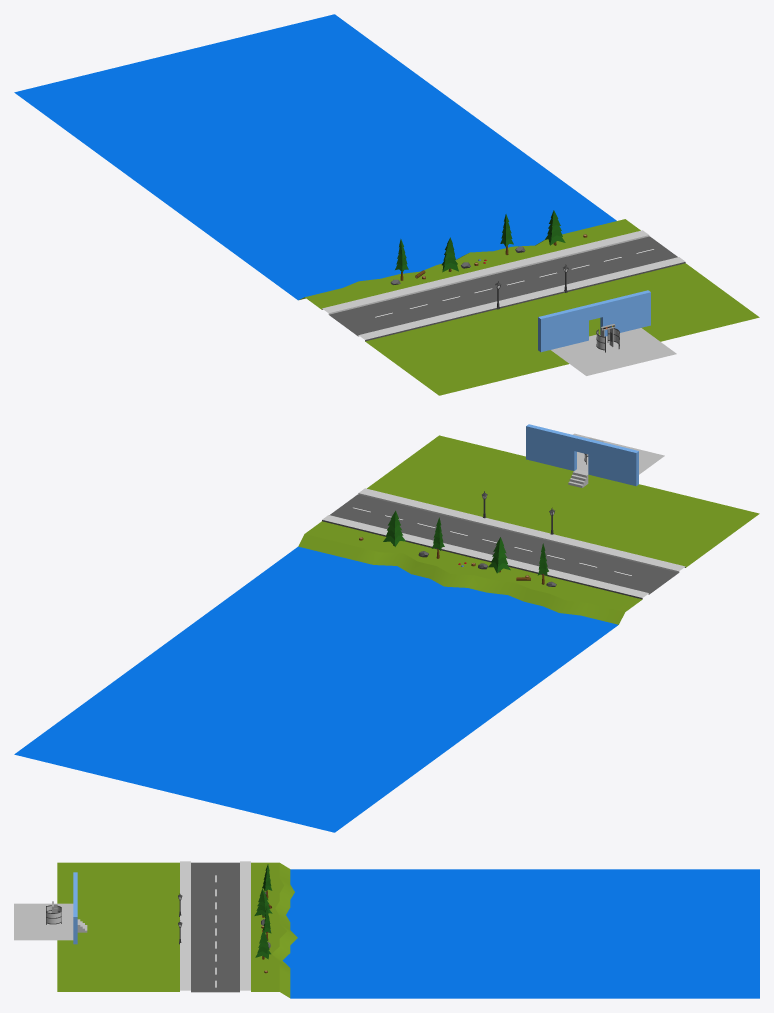
File: Security Bag checking Level.fbx
3 views of the same model, one above another, from view 1: azimuth 30°, elevation 25°; view 2: azimuth 150°, elevation 25°; view 3: azimuth 270°, elevation 25° (orthographic). The views are drawn at different scales.
Parts seen in each view (by area): view 1: ENV, ENV.001; view 2: ENV, ENV.001; view 3: ENV, ENV.001, BezierCircle.001.
Boxes of the visible parts, x1,y1,x2,y2 form: ENV: (14,14,759,395); ENV.001: (538,290,650,352); ENV: (14,433,759,832); ENV.001: (526,424,638,486); ENV: (14,861,759,998); ENV.001: (73,872,77,944); BezierCircle.001: (46,905,61,924).
Size of the model in its own units: 3255 by 488 by 7918.
